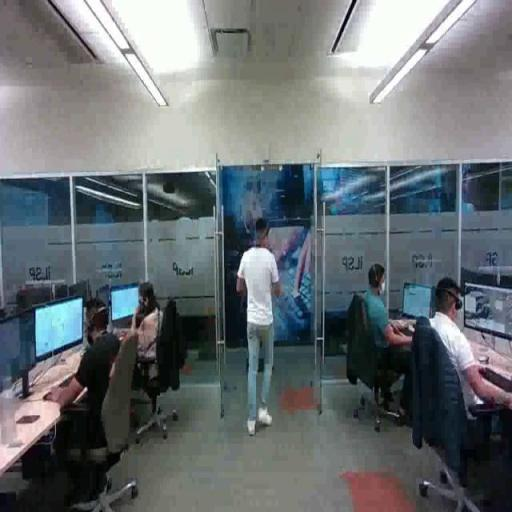person: (236, 213, 284, 442)
